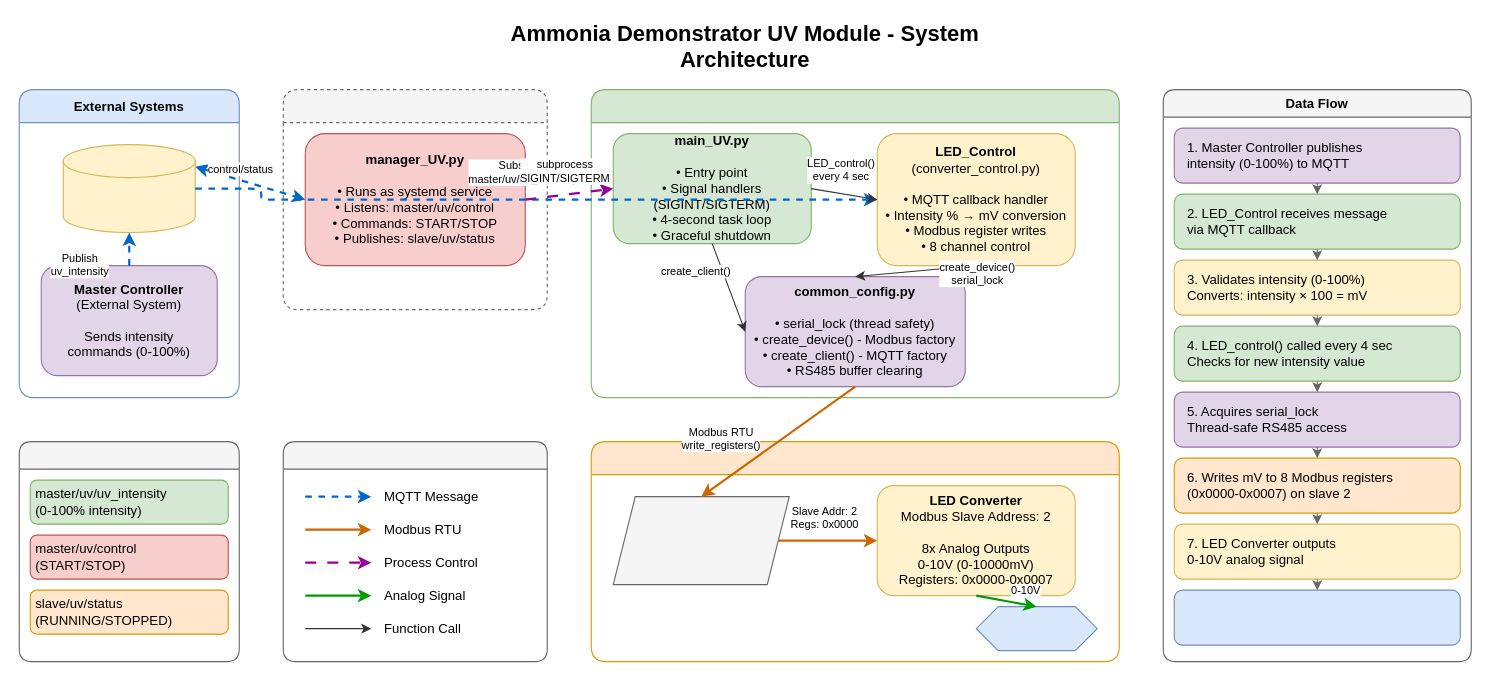
Some shapes in this 1491 by 681 pixel diagram are drawn without their labels. Here are the shapes that lost their labels. From the top down, the box of each, then its label:
(62, 144, 195, 233): MQTT Broker 192.168.0.89:1883
(282, 89, 547, 310): Process Manager (Optional)
(590, 89, 1119, 398): Main Application
(18, 441, 239, 662): MQTT Topics
(282, 441, 547, 662): Data Flow Legend
(612, 496, 789, 585): RS485 Serial Port /dev/ttyRS485 Modbus RTU 9600 baud, 8N1
(590, 441, 1119, 662): Hardware Layer
(975, 606, 1097, 651): UV LED Array (8 Channels)
(1173, 589, 1460, 645): 8. UV LEDs illuminate at specified intensity
